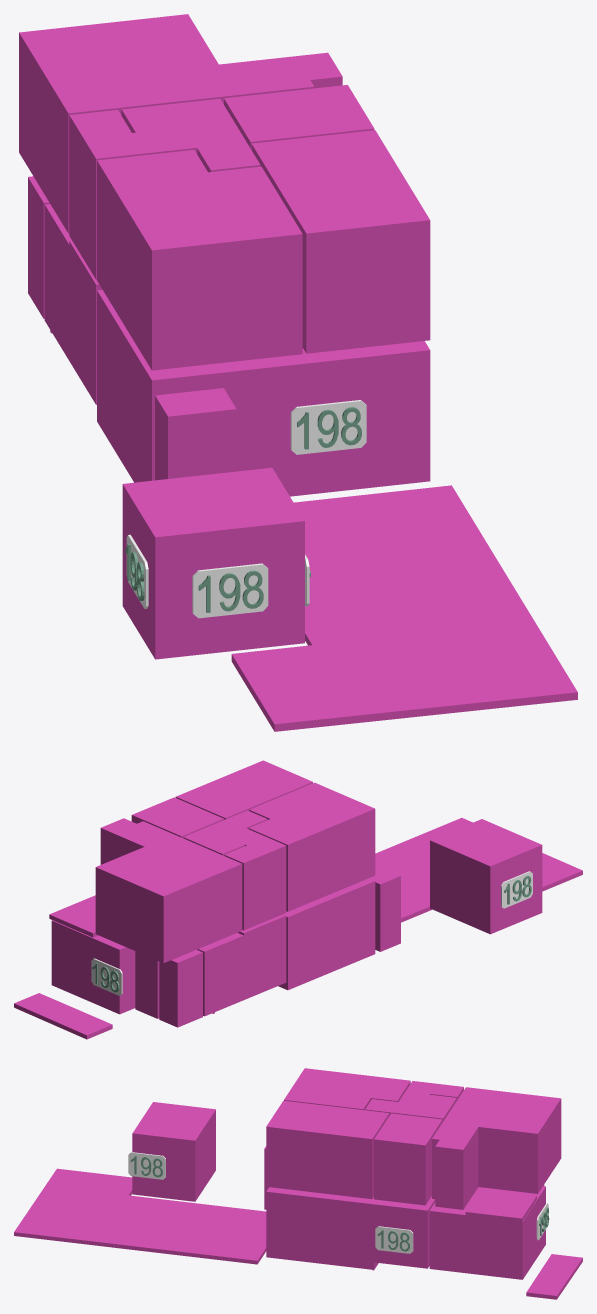
The picture shows the model from 3 angles, top to bottom: view 1: azimuth 30°, elevation 25°; view 2: azimuth 150°, elevation 25°; view 3: azimuth 270°, elevation 25°; orthographic projection. The views are drawn at different scales.
Visible parts, largest first — view 1: g_12, g_6, g_1, g_7, g_5, g_8, g_4, g_2, g_10, g_9, g_11, g_26 (+2 smaller); view 2: g_8, g_6, g_5, g_2, g_1, g_0, g_12, g_7, g_11, g_3, g_4, g_13 (+5 smaller); view 3: g_12, g_8, g_1, g_7, g_0, g_5, g_10, g_6, g_14, g_9, g_13, g_18 (+2 smaller).
Part boxes in pixels (x1,y1,x2,y2): g_12: (231,485,577,731); g_6: (97,150,302,370); g_1: (97,289,430,496); g_7: (251,130,430,353); g_5: (122,467,304,659); g_8: (19,14,342,233); g_4: (155,388,236,480); g_2: (44,204,102,404); g_10: (224,85,374,149); g_9: (121,98,260,172); g_11: (69,110,151,279); g_26: (192,563,268,618); g_8: (95,818,242,963); g_6: (248,782,375,911); g_5: (430,819,542,934); g_2: (135,914,286,1018); g_1: (278,878,375,990); g_0: (51,920,135,1014); g_12: (375,818,582,922); g_7: (175,760,312,819); g_11: (224,836,286,930); g_3: (159,949,202,1027); g_4: (369,865,400,951); g_13: (14,993,112,1039); g_12: (14,1168,266,1264); g_8: (432,1087,561,1209); g_1: (266,1187,435,1270); g_7: (266,1100,389,1199); g_0: (429,1186,545,1279); g_5: (132,1102,215,1201); g_10: (374,1113,442,1205); g_6: (284,1068,410,1110); g_14: (465,1189,536,1222); g_9: (365,1092,456,1121); g_13: (526,1254,582,1299); g_18: (375,1226,413,1253).
Bounding box in the file's own units: 11.32 × 5.35 × 20.47.
